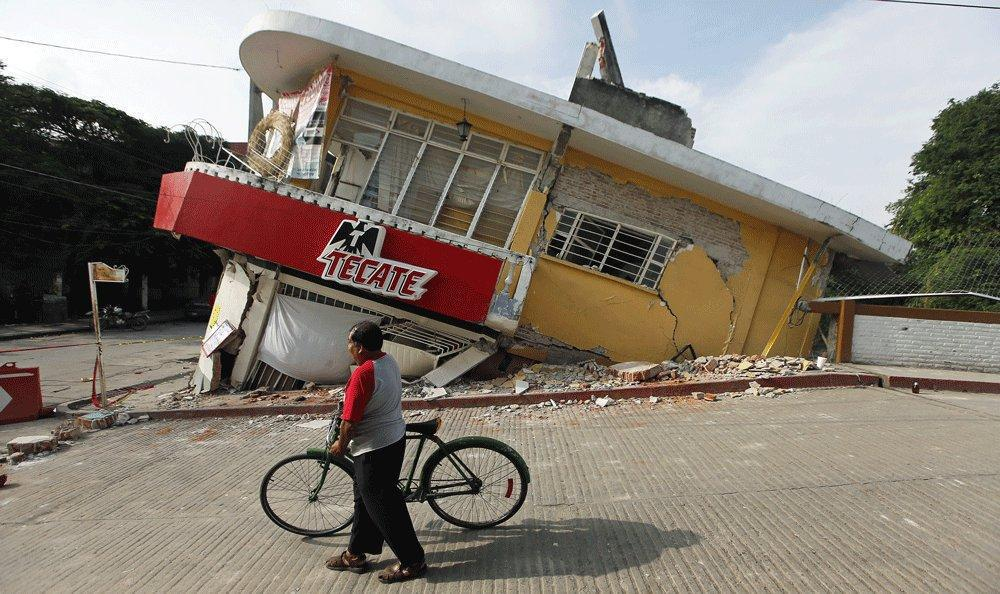destroyed: (146, 11, 886, 437)
